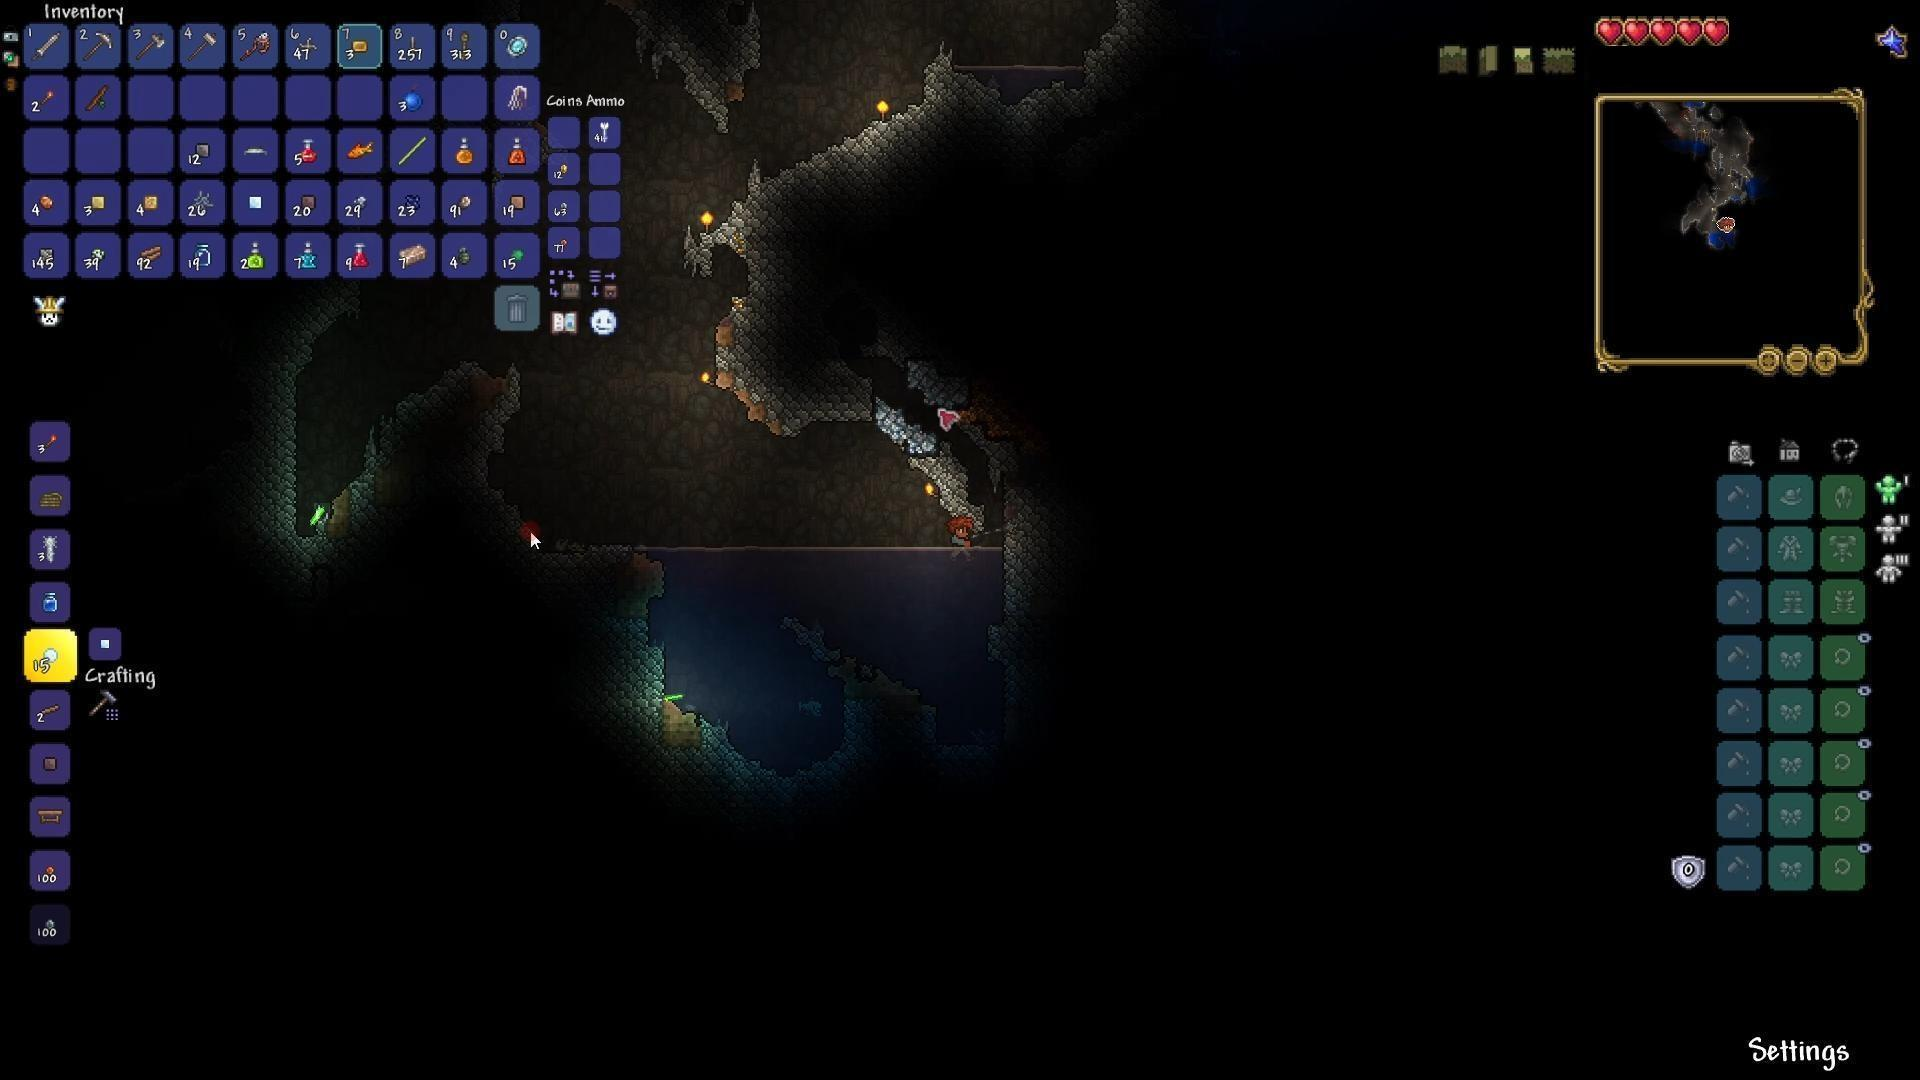heart: (1702, 17, 1733, 51), (1593, 16, 1626, 46), (1676, 15, 1704, 50), (1650, 16, 1676, 49), (1625, 15, 1651, 44)
liquid: (670, 534, 949, 576)
stone: (553, 550, 675, 727), (915, 61, 1102, 173), (749, 125, 902, 243), (636, 15, 773, 135), (385, 368, 520, 460), (712, 709, 841, 795), (684, 241, 793, 328), (745, 365, 873, 435), (253, 355, 301, 541), (998, 493, 1063, 624), (347, 473, 447, 543), (927, 447, 986, 531), (295, 287, 368, 355)
